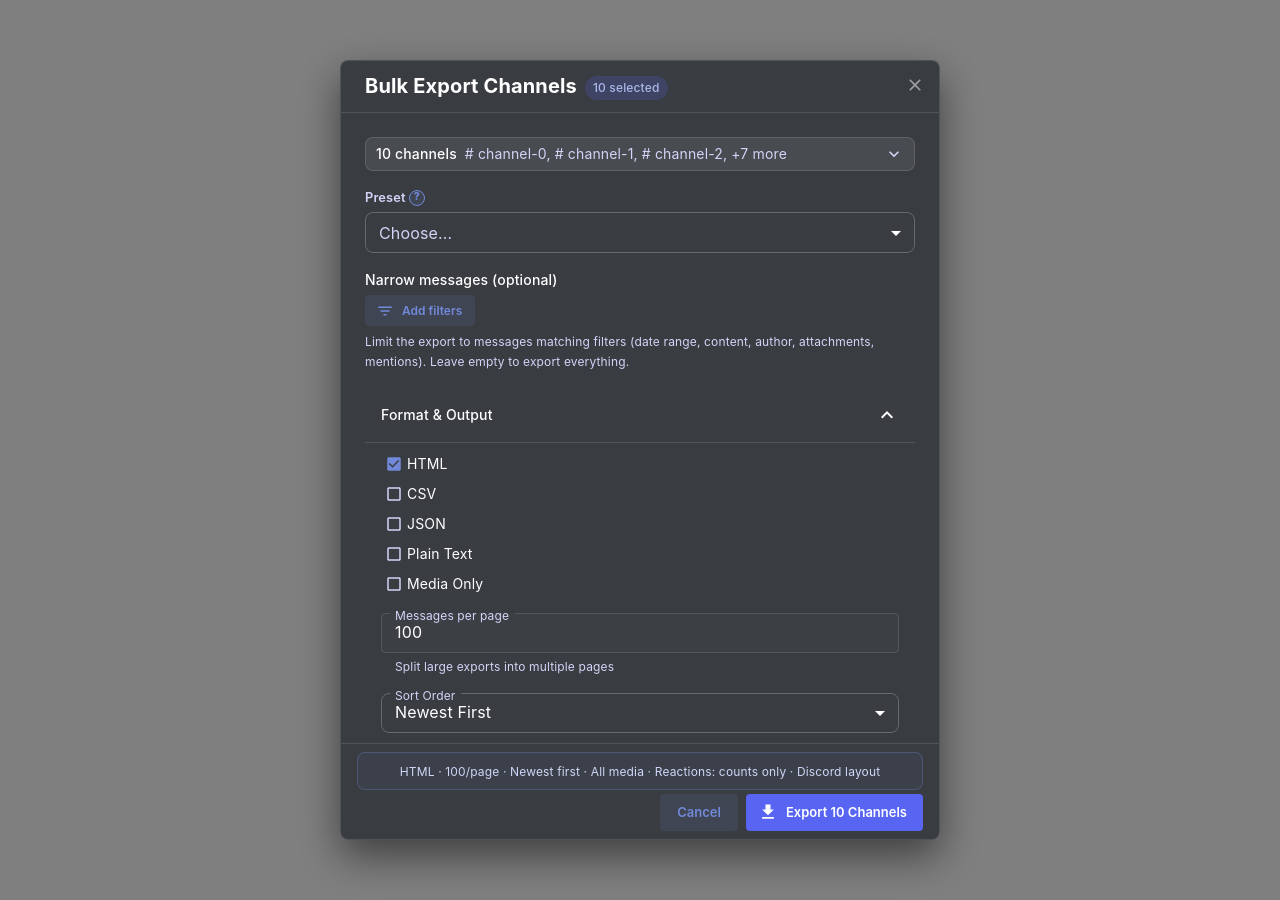
BulkExportDialog › Selected channels pill › toggles aria-expanded when the pill is clicked
Click the button with aria-label "Selected channels" at (640, 154), box top-left (365, 137), bottom-right (915, 171)
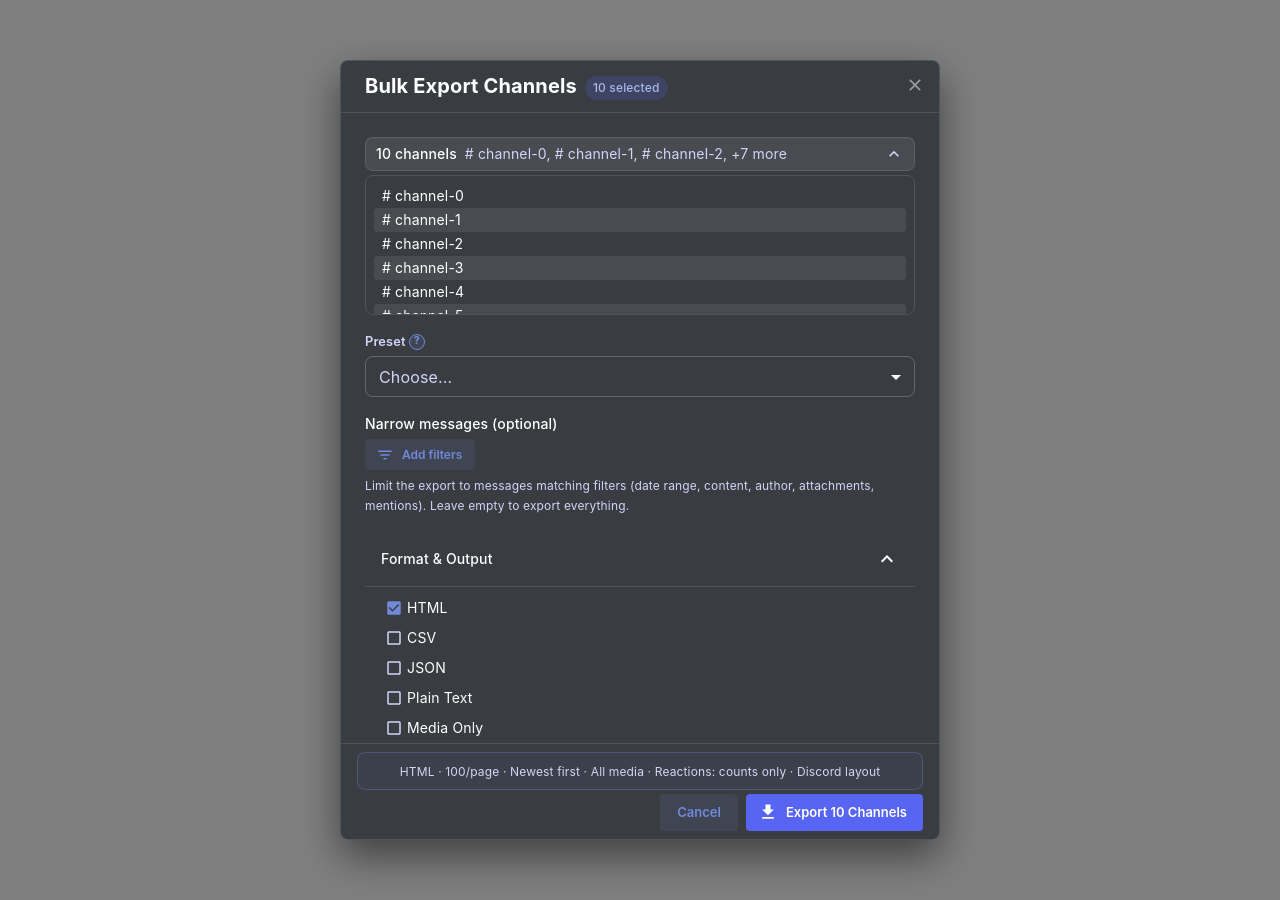
Expected: the button with aria-label "Selected channels" is expanded, top-left (365, 137), bottom-right (915, 171)
